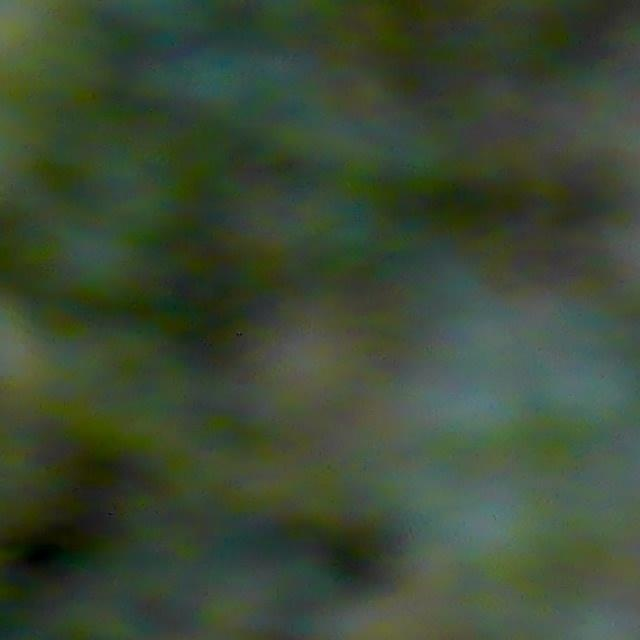SeaGrape: (418, 352, 532, 466), (546, 333, 640, 452), (436, 500, 546, 590), (52, 220, 142, 301)
